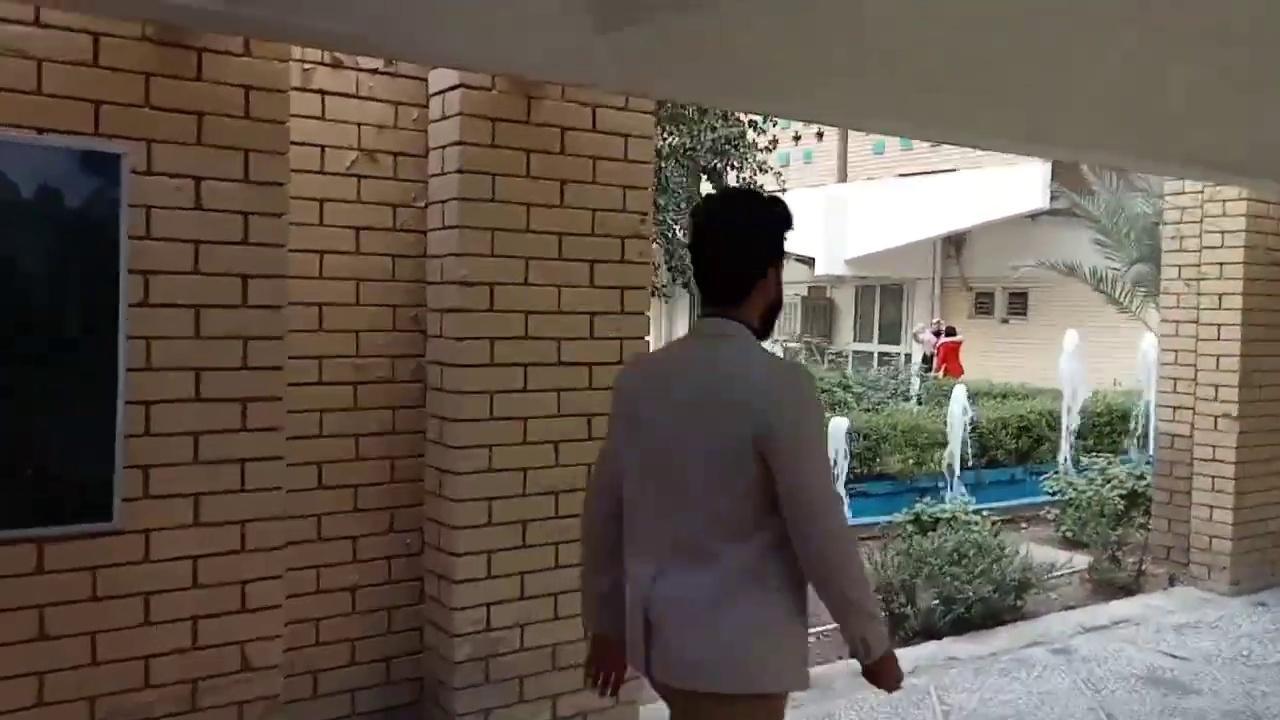fountain: (820, 323, 1158, 525), (1054, 326, 1090, 474), (937, 381, 976, 504), (1133, 329, 1159, 462), (825, 413, 852, 516)
person: (579, 186, 904, 719), (931, 325, 965, 380), (911, 317, 945, 372)
tree: (1019, 160, 1165, 586), (649, 97, 790, 302), (859, 494, 1047, 643), (1022, 160, 1165, 337), (1037, 453, 1154, 584)
